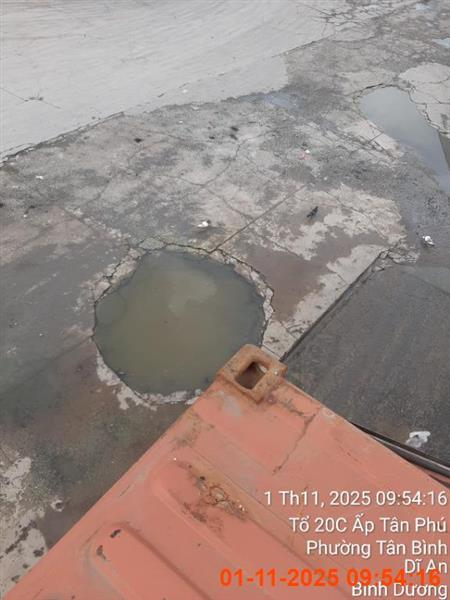broken: (2, 234, 449, 599)
